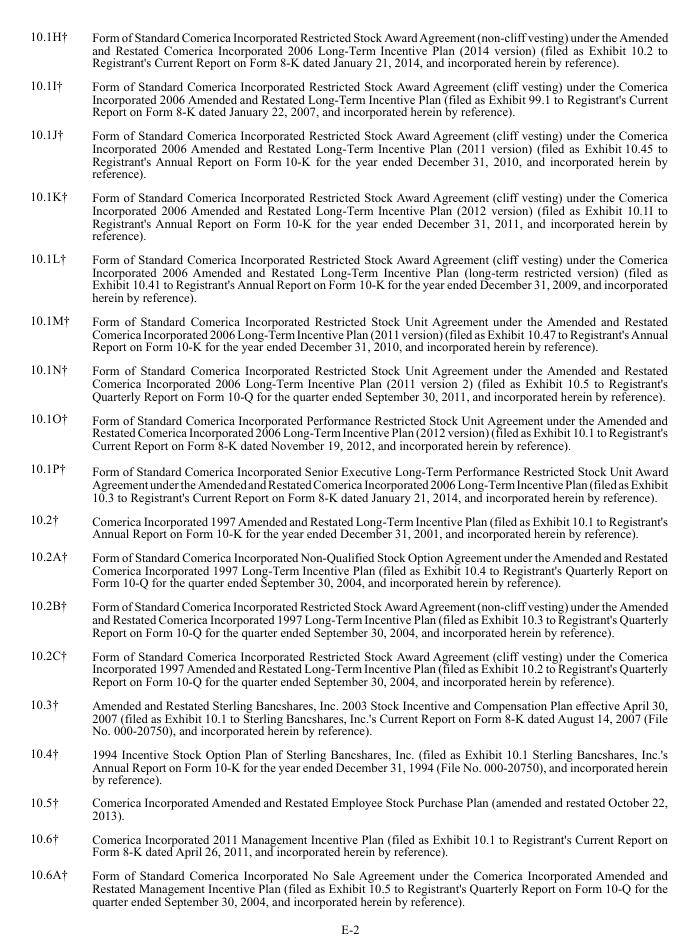table: (29, 28, 667, 907)
table column: (80, 28, 667, 907), (29, 28, 80, 907)
table row: (29, 122, 667, 184), (29, 184, 667, 246), (29, 246, 667, 308), (29, 455, 667, 507), (29, 642, 667, 692), (29, 73, 667, 122), (29, 308, 667, 357), (29, 357, 667, 406), (29, 406, 667, 455), (29, 544, 667, 593), (29, 593, 667, 642), (29, 692, 667, 741), (29, 741, 667, 790), (29, 28, 667, 73), (29, 862, 667, 907), (29, 507, 667, 544), (29, 825, 667, 862), (29, 790, 667, 825)
